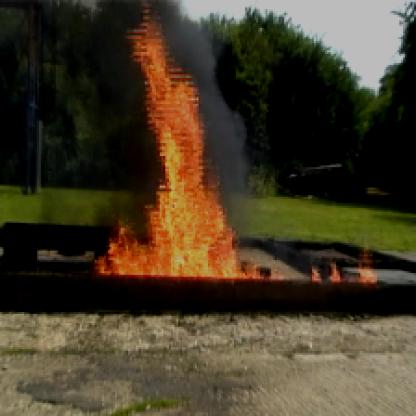Fire: (86, 2, 284, 280), (308, 251, 379, 284)
